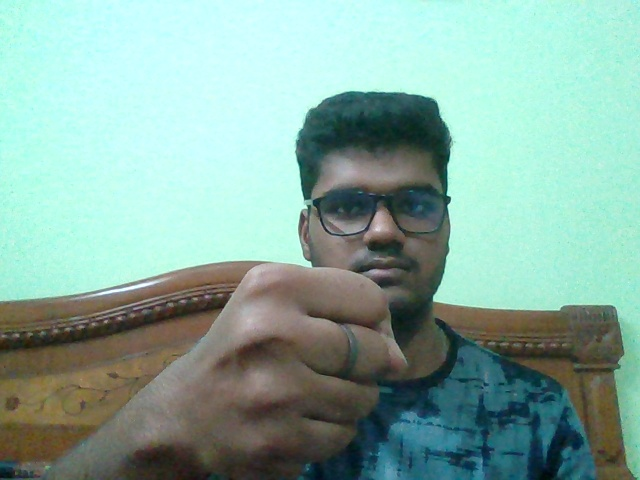Rock: (186, 262, 410, 480)
